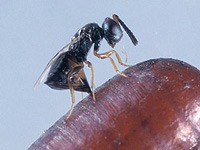house fly: (32, 13, 140, 124)
